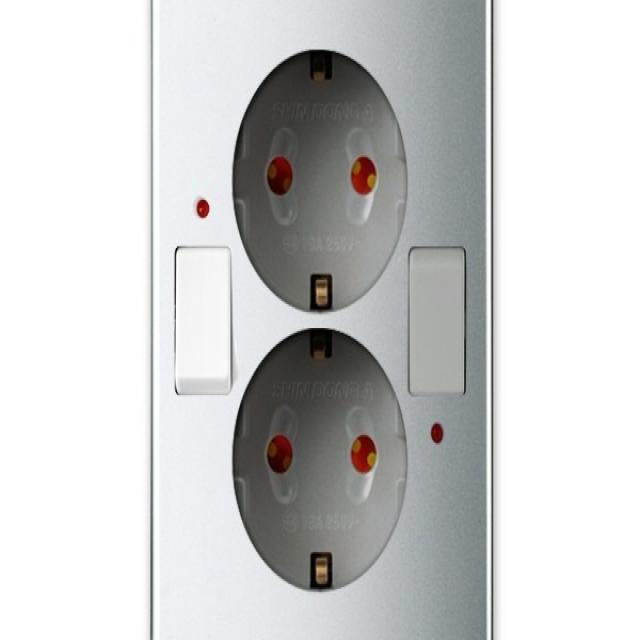typeb: (129, 0, 587, 640)
